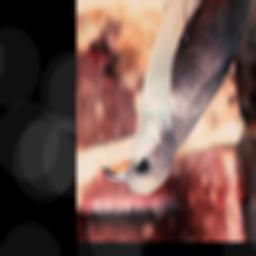Cuckoo: (102, 0, 256, 196)
